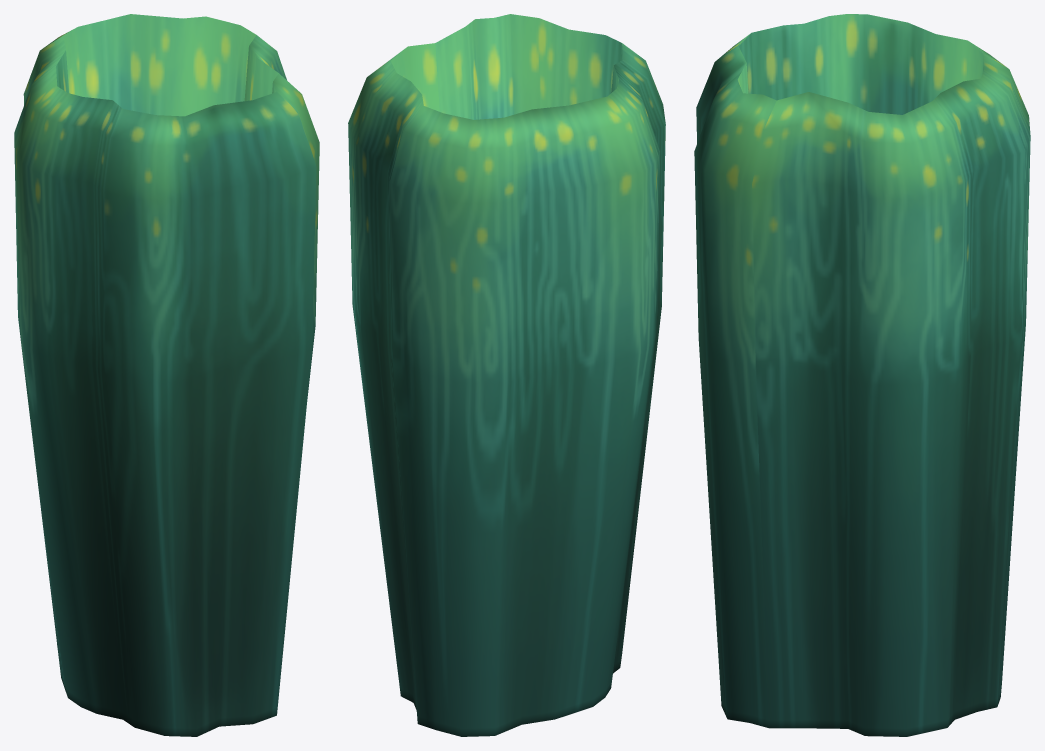
The model's file is DimRock_Green_06.FBX.
3 views of the same model, side by side, from view 1: azimuth 30°, elevation 25°; view 2: azimuth 150°, elevation 25°; view 3: azimuth 270°, elevation 25° (orthographic). The views are drawn at different scales.
Parts seen in each view (by area): view 1: DimRock_Green_06; view 2: DimRock_Green_06; view 3: DimRock_Green_06.
Part boxes in pixels (x1,y1,x2,y2): DimRock_Green_06: (14, 14, 319, 736); DimRock_Green_06: (348, 14, 665, 736); DimRock_Green_06: (694, 14, 1030, 736).
Size of the model in its own units: 31.15 by 67.73 by 32.38.
